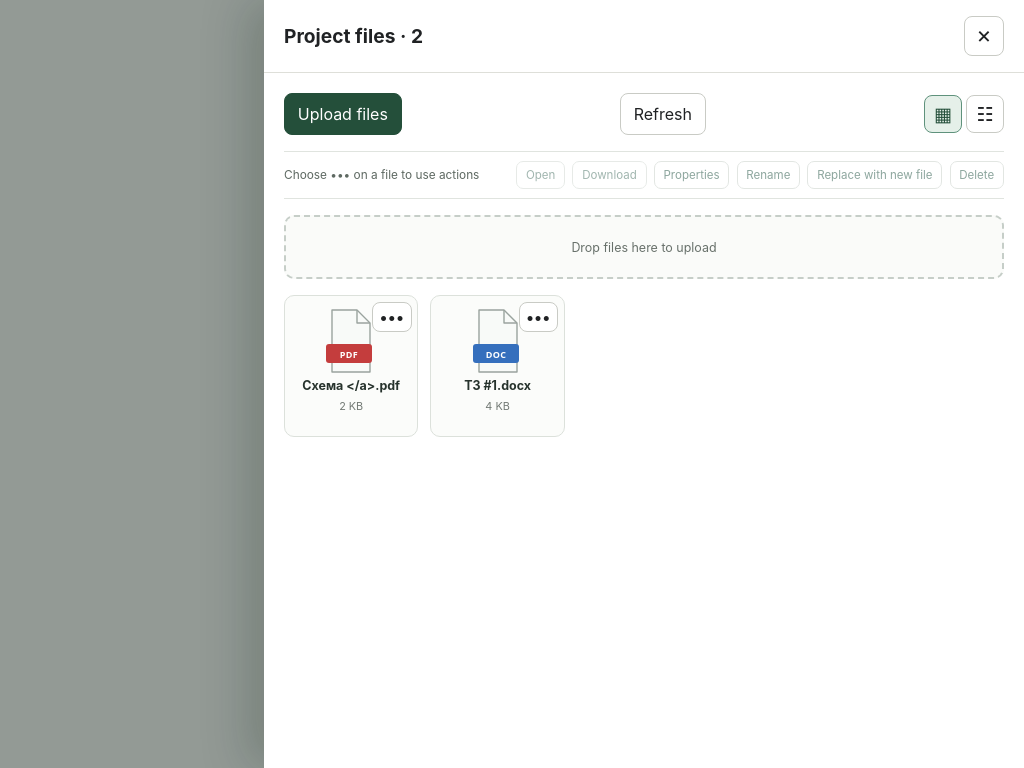
Test case: ProjectFilesPanel › uses encoded server open/download URLs and shows only repository-relative properties
Click the 1st button "•••": (392, 317) [372,302,412,332]
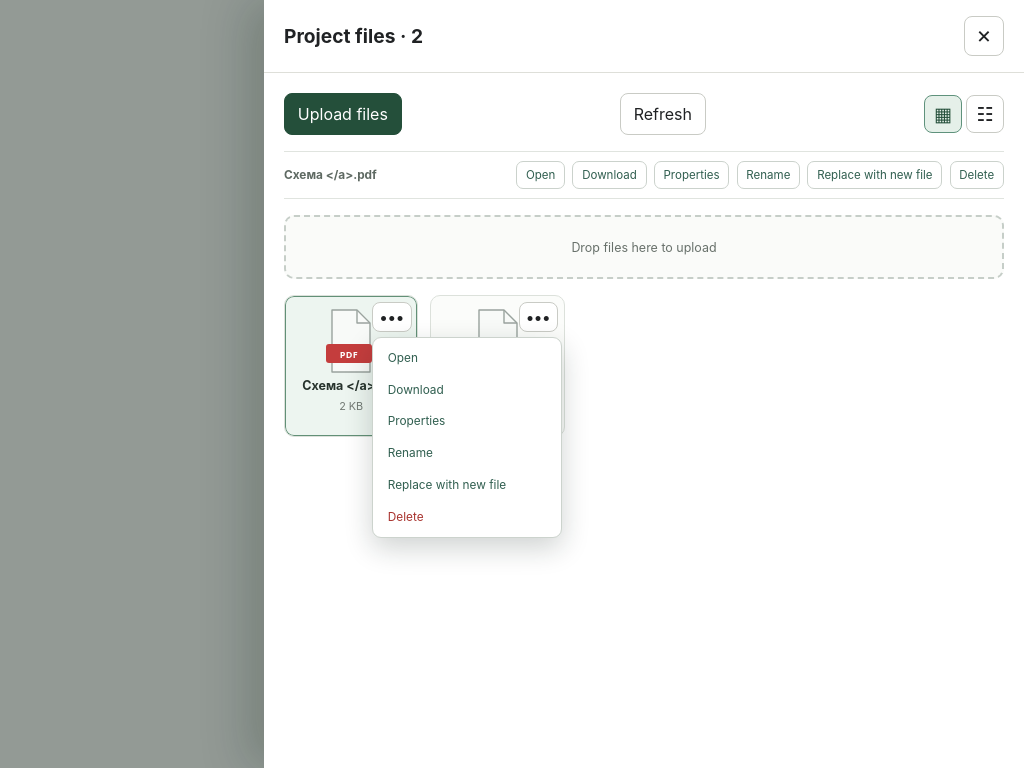
Click the 1st button "Properties": (692, 175) [654,161,729,189]
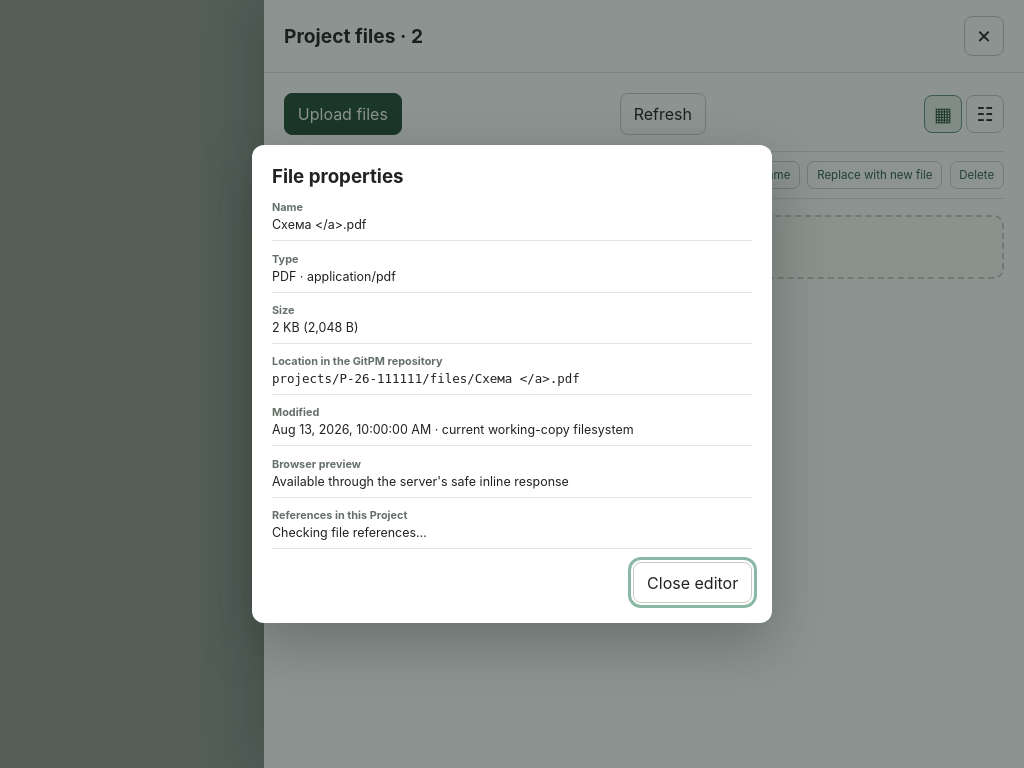
expect the dialog "File properties" shows "current working-copy filesystem": met, box [442,422,634,437]
Press Tab in the button "Close editor", box [633,562,752,603]
Press Tab in the button "Close editor", box [633,562,752,603]
Press Escape in the dialog "File properties"
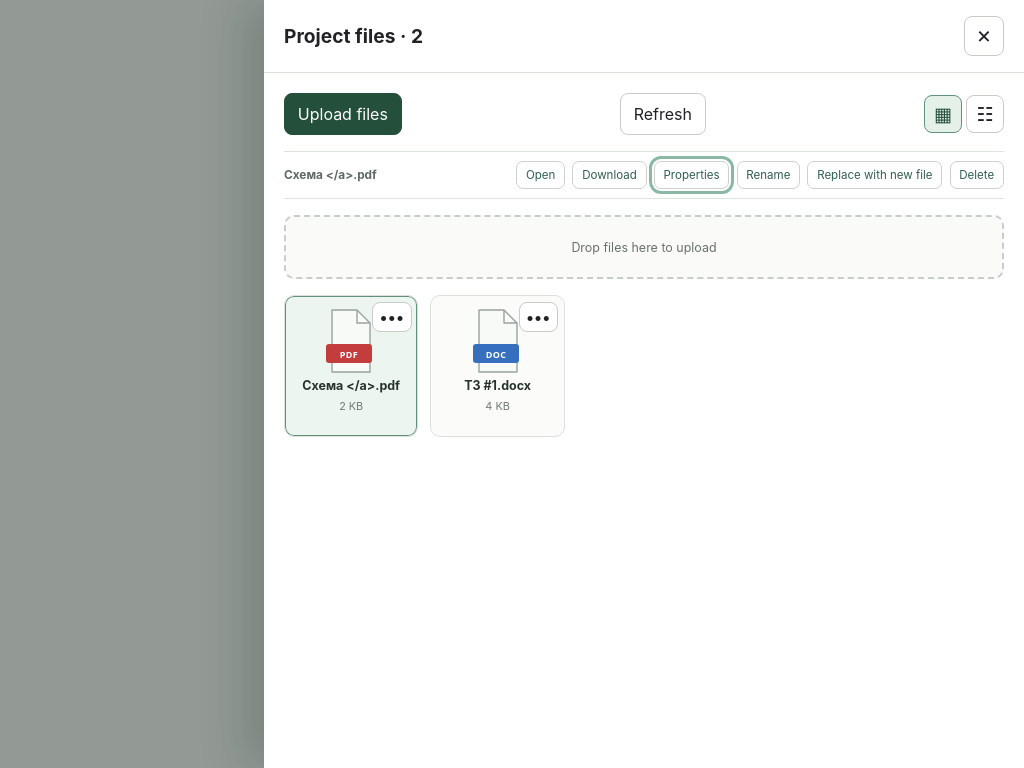
Click the button "Properties": (692, 175) [654,161,729,189]
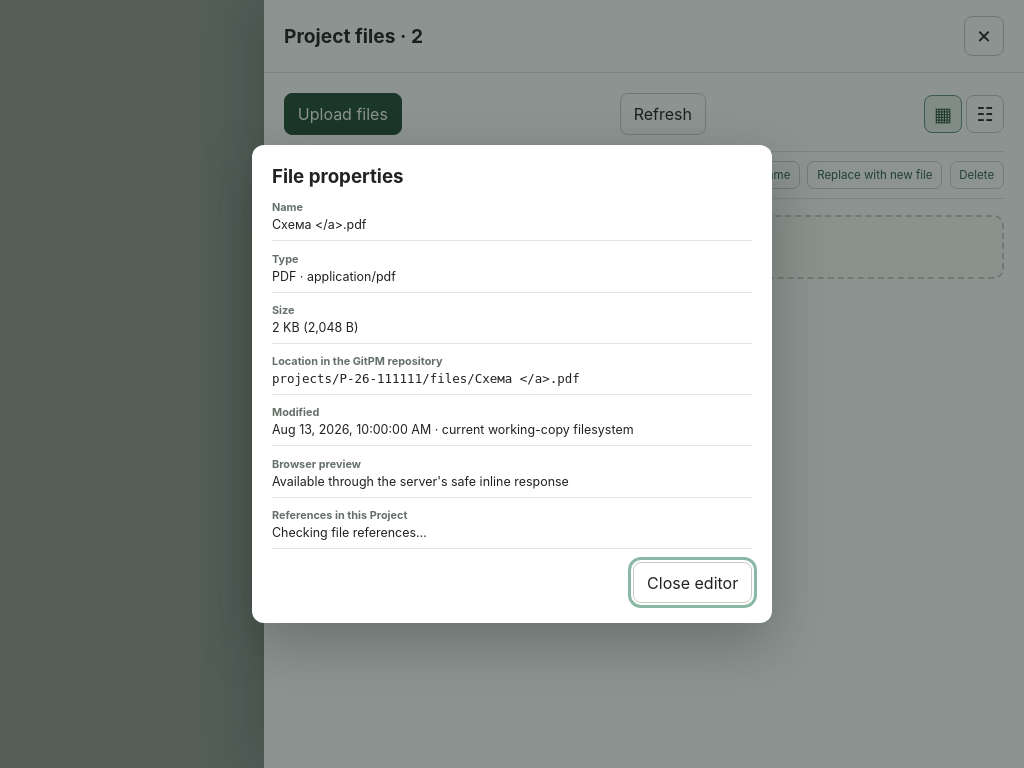
Press the mouse on the dialog "File properties": (512, 384) [0,0,1023,767]
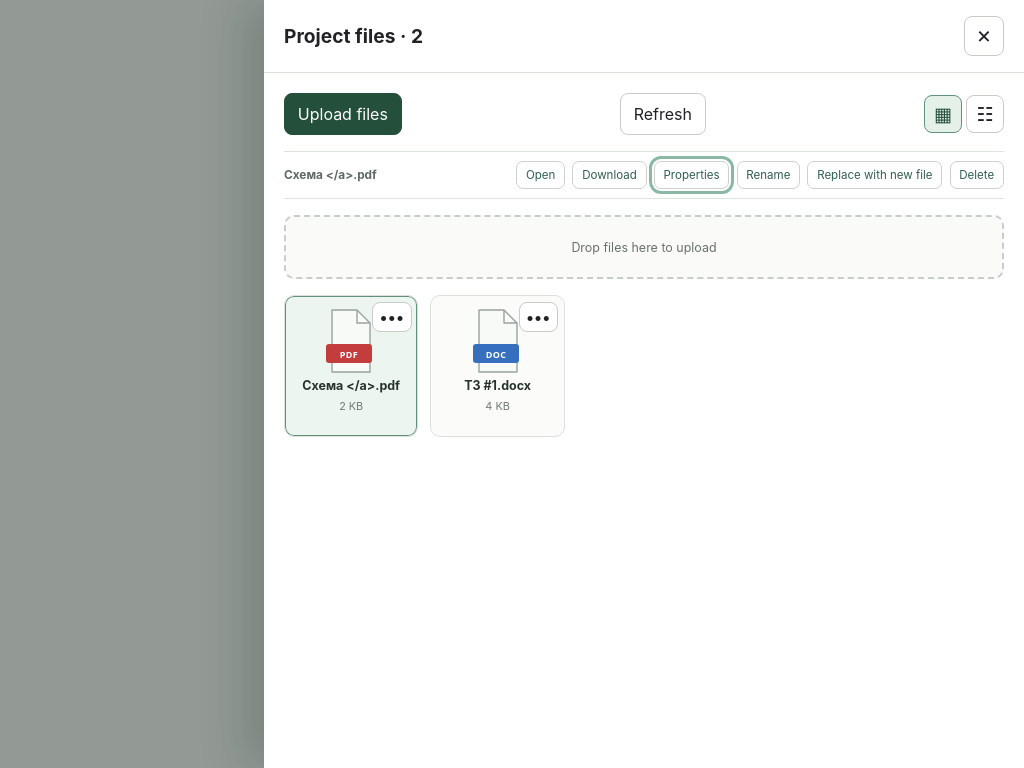
expect the heading "File properties" is gone: met
